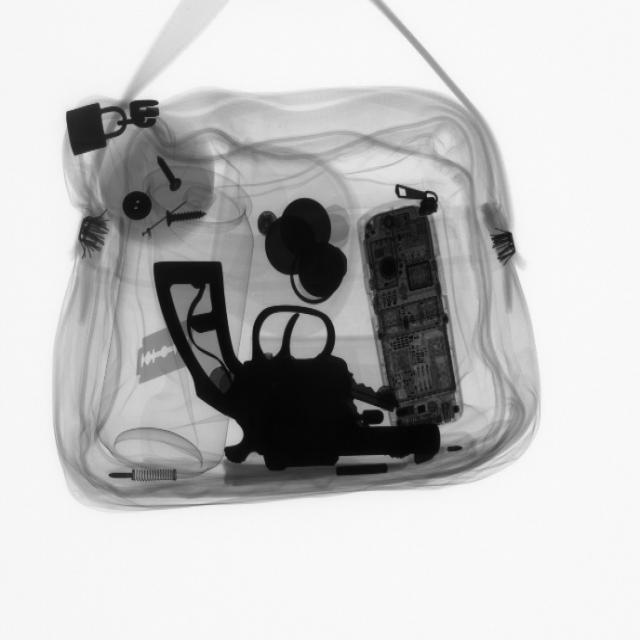BLADE: (135, 318, 199, 385)
GUN: (156, 251, 443, 475)
SCREW: (156, 199, 218, 236), (152, 146, 191, 203)
